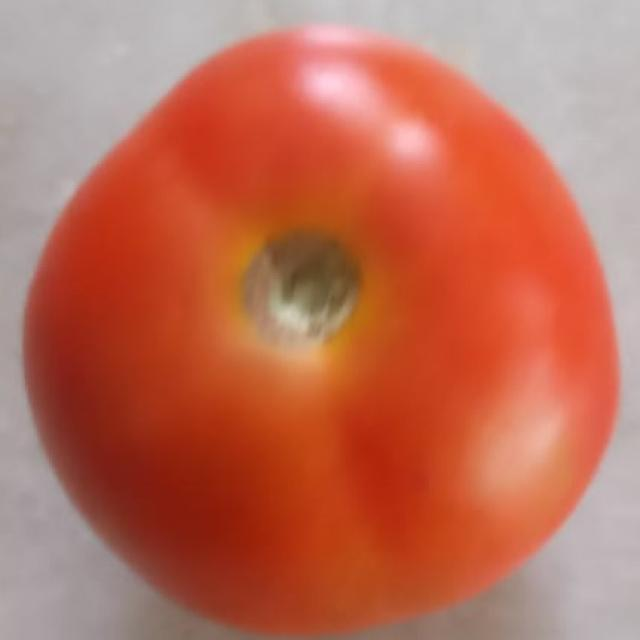ripe tomato: (20, 10, 622, 617)
